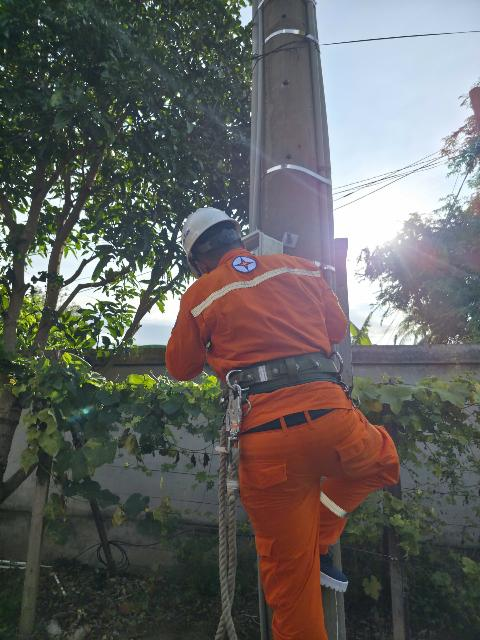harness: (204, 341, 361, 408)
helmet: (144, 200, 250, 272)
shoes: (313, 535, 359, 602)
